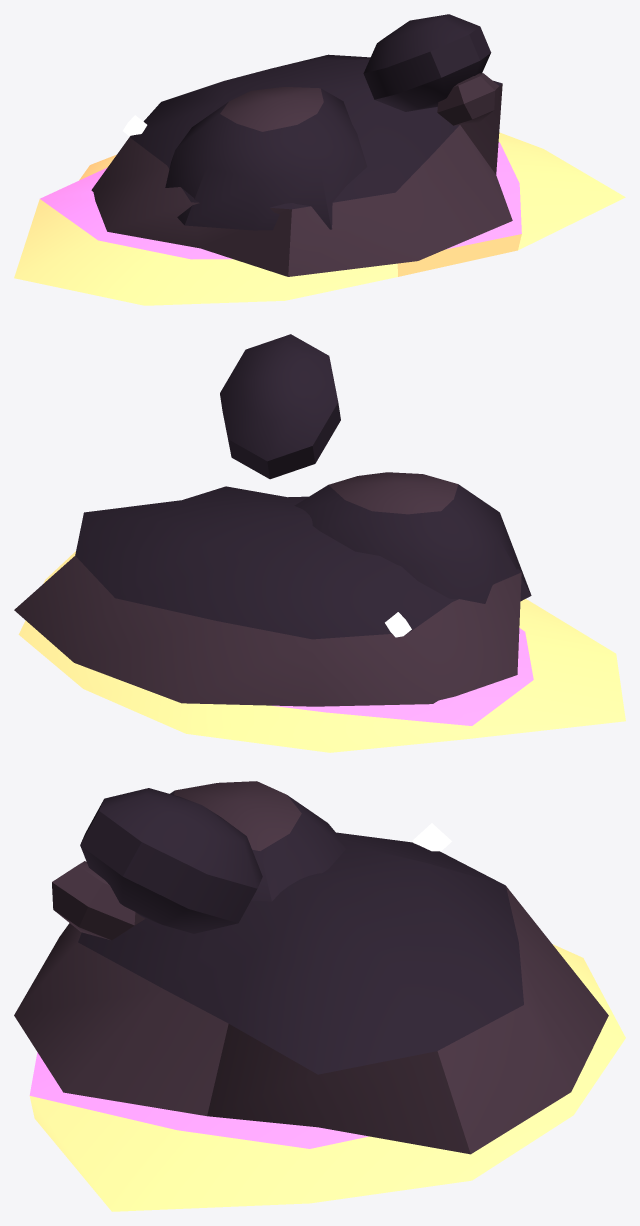
Rendered from dark_nebula.glb.
3 renders of one model, top to bottom at view 1: azimuth 30°, elevation 25°; view 2: azimuth 150°, elevation 25°; view 3: azimuth 270°, elevation 25°, orthographic. The views are drawn at different scales.
Visible parts, largest first — view 1: body; view 2: body; view 3: body.
Part boxes in pixels (x1,y1,x2,y2): body: (14,14,625,305); body: (14,334,625,752); body: (14,781,625,1211).
Bounding box in the file's own units: 217 × 80.85 × 150.
